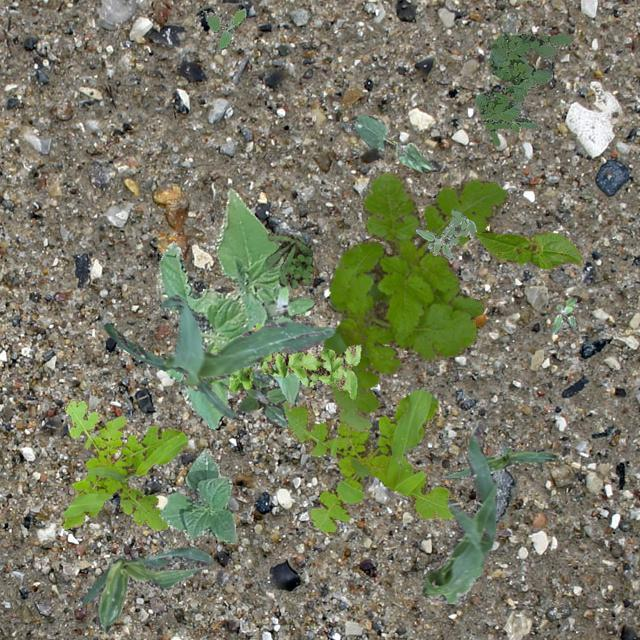crop: (156, 186, 300, 428), (104, 294, 334, 418), (419, 424, 496, 604), (78, 544, 212, 630), (158, 448, 236, 542), (350, 114, 430, 172), (440, 442, 556, 478), (474, 230, 580, 268)
weed: (322, 170, 508, 430), (280, 388, 458, 534), (60, 398, 186, 530), (205, 322, 359, 398), (474, 32, 570, 144), (414, 208, 476, 260), (238, 368, 288, 426), (264, 232, 312, 288), (256, 280, 312, 320), (203, 8, 246, 48), (550, 296, 576, 334)
